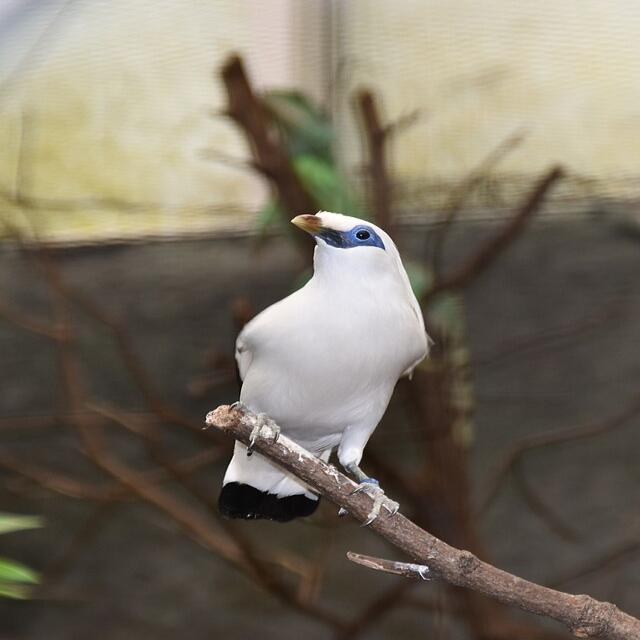Jalak Bali: (192, 188, 452, 545)
